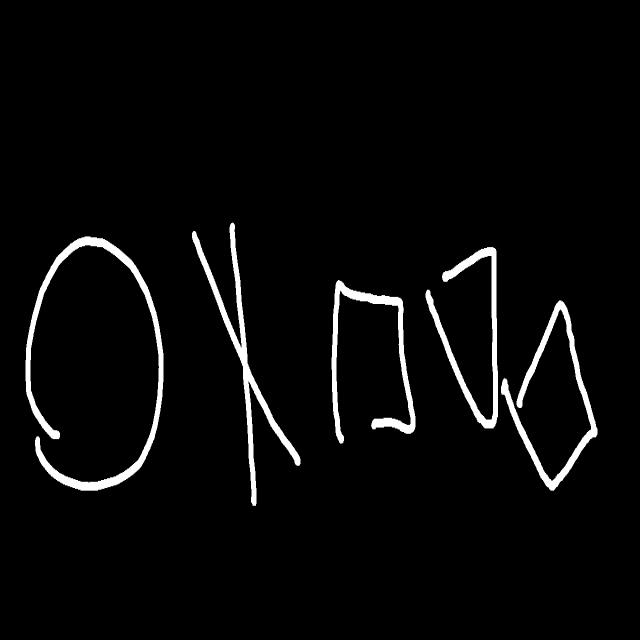circle: (26, 238, 164, 491)
cross: (192, 223, 300, 506)
diamond: (501, 300, 597, 491)
rectangle: (331, 280, 416, 443)
triangle: (426, 247, 498, 428)
